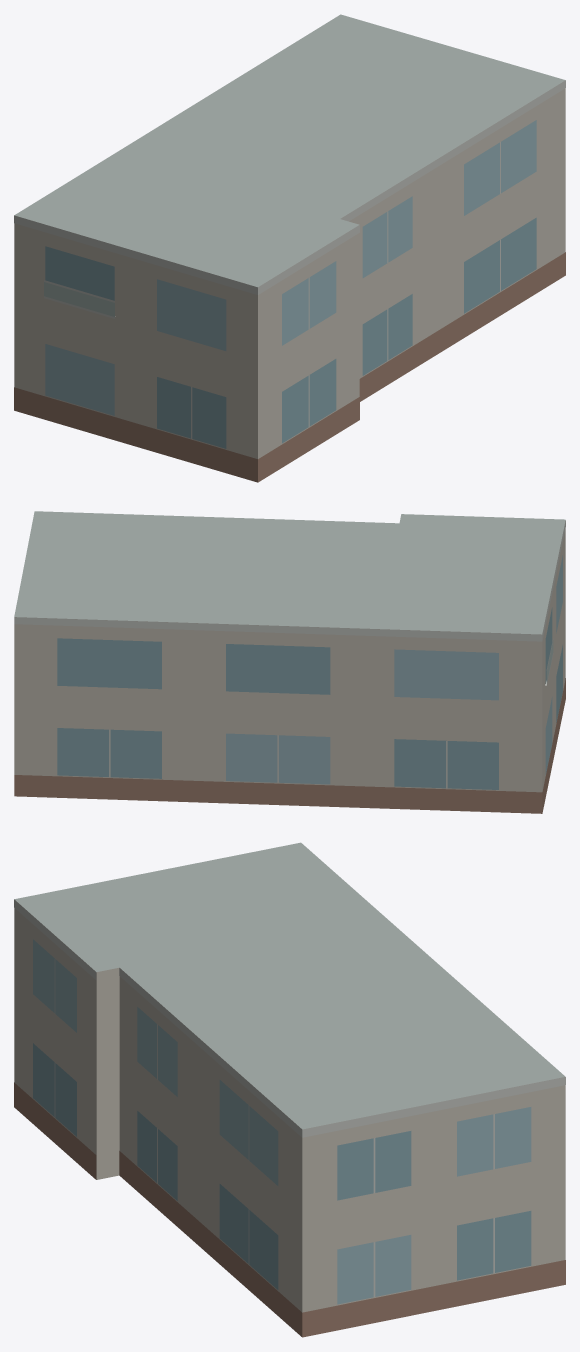
File: survey-upis-32705598.glb
3 views of the same model, one above another, from view 1: azimuth 30°, elevation 25°; view 2: azimuth 150°, elevation 25°; view 3: azimuth 270°, elevation 25° (orthographic). The views are drawn at different scales.
Parts seen in each view (by area): view 1: survey-upis-32705598.tmp; view 2: survey-upis-32705598.tmp; view 3: survey-upis-32705598.tmp.
Part boxes in pixels (x1,y1,x2,y2): survey-upis-32705598.tmp: (14,14,565,482); survey-upis-32705598.tmp: (14,511,565,813); survey-upis-32705598.tmp: (14,842,565,1337).
Bounding box in the file's own units: 18.07 × 6.1 × 14.68.
